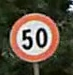limite 50: (8, 11, 60, 62)
